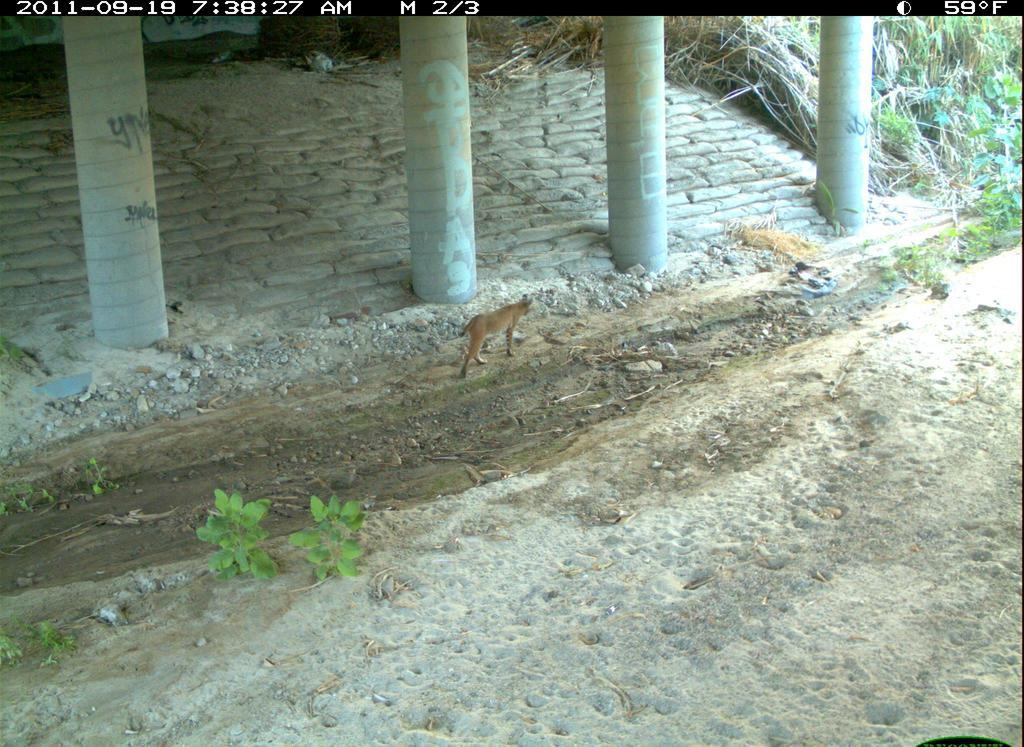bobcat: (904, 577, 1024, 747)
